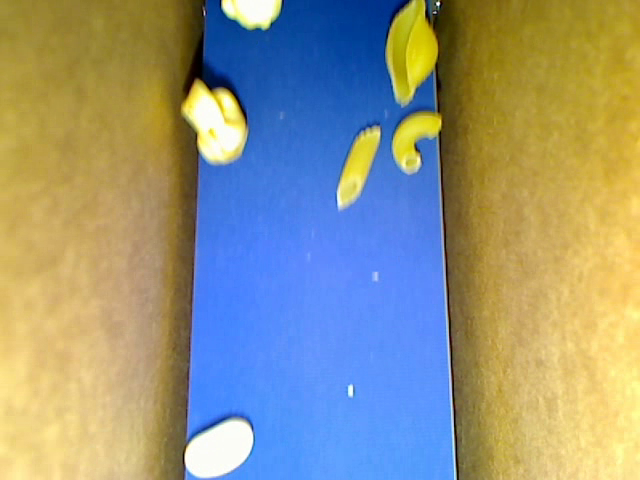elbow: (391, 110, 441, 175)
penne: (336, 124, 381, 211)
shell: (385, 1, 438, 109)
